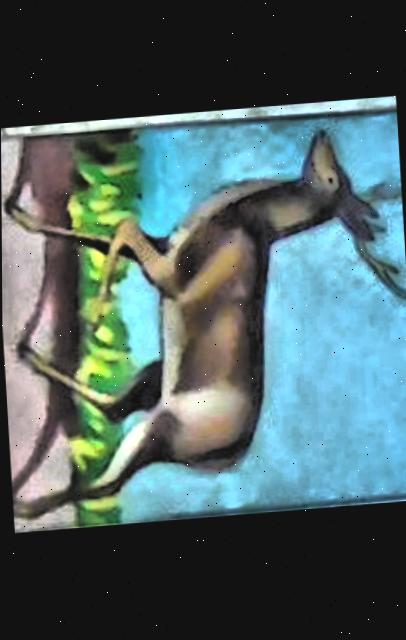El Valiente: (1, 113, 406, 531)
